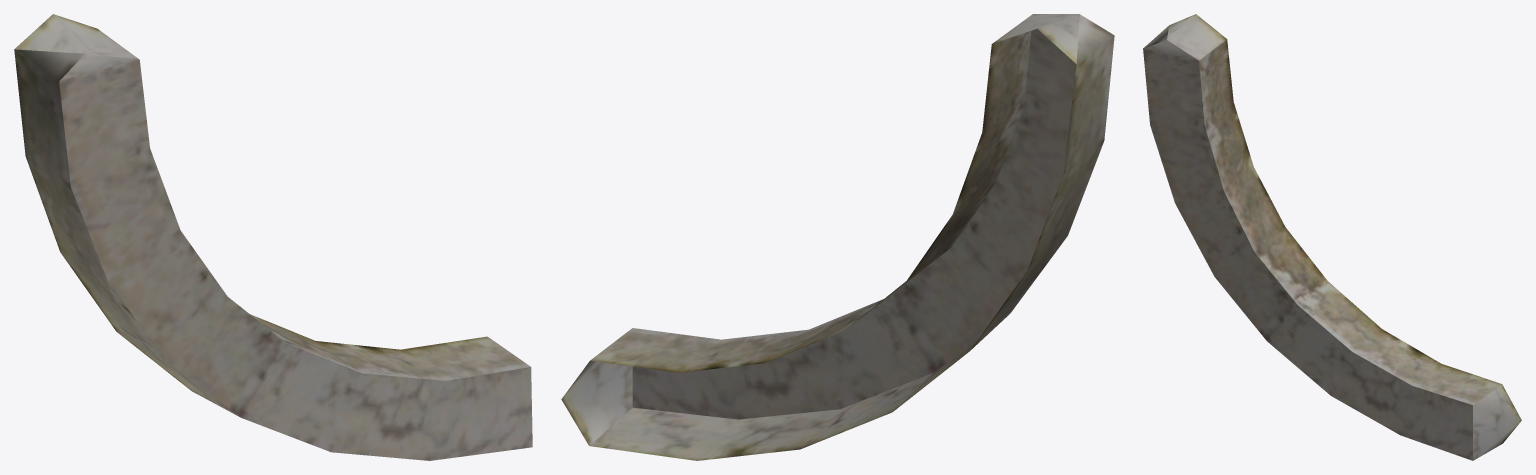
Rendered from border_c_90_3_white.glb.
3 renders of one model, left to right at view 1: azimuth 30°, elevation 25°; view 2: azimuth 150°, elevation 25°; view 3: azimuth 330°, elevation 25°, orthographic. The views are drawn at different scales.
Visible parts, largest first — view 1: set_0_group_0; view 2: set_0_group_0; view 3: set_0_group_0.
Part boxes in pixels (<box>): set_0_group_0: <box>14,14,532,460</box>; set_0_group_0: <box>561,14,1114,460</box>; set_0_group_0: <box>1143,14,1521,460</box>.
Size of the model in its own units: 1.94 by 1.89 by 0.3275.
Materials: 1 (1 with a texture image).
